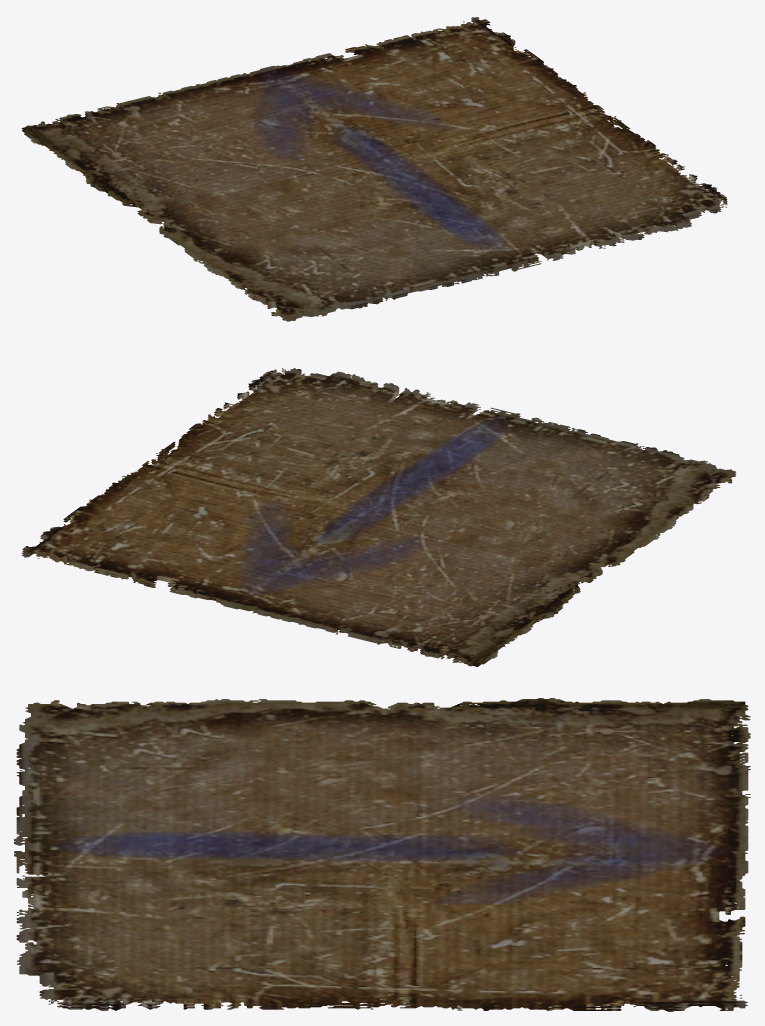
File: ArrowBlu.glb
3 views of the same model, one above another, from view 1: azimuth 30°, elevation 25°; view 2: azimuth 150°, elevation 25°; view 3: azimuth 270°, elevation 25° (orthographic). The views are drawn at different scales.
Parts seen in each view (by area): view 1: _ArrowBlu; view 2: _ArrowBlu; view 3: _ArrowBlu.
Boxes of the visible parts, box(x1,y1,x2,y2) form: _ArrowBlu: box(21, 17, 727, 321); _ArrowBlu: box(21, 368, 735, 666); _ArrowBlu: box(14, 698, 750, 1011).
Size of the model in its own units: 1.37 by 0.0226 by 1.37.
2 materials, 2 textured.
